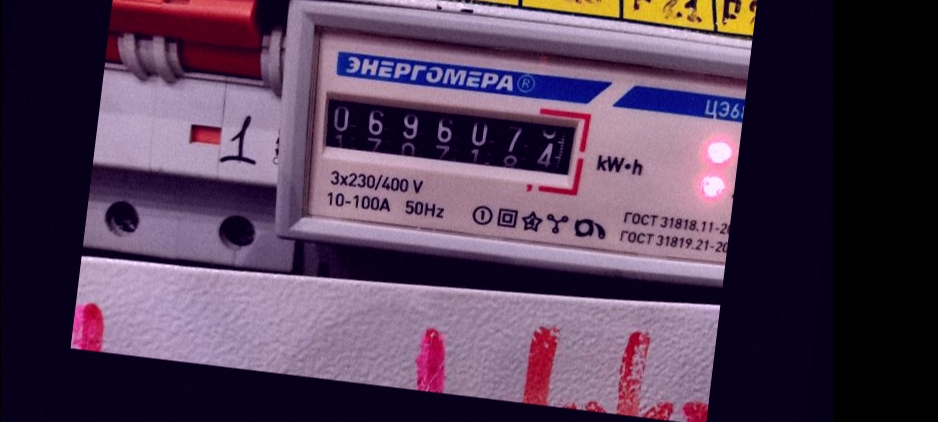0: (469, 116, 491, 148), (331, 102, 352, 132)
4: (536, 139, 555, 169)
6: (434, 114, 456, 145), (366, 105, 388, 135)
7: (504, 122, 525, 154)
9: (400, 111, 421, 140)
screen: (305, 73, 599, 195)
